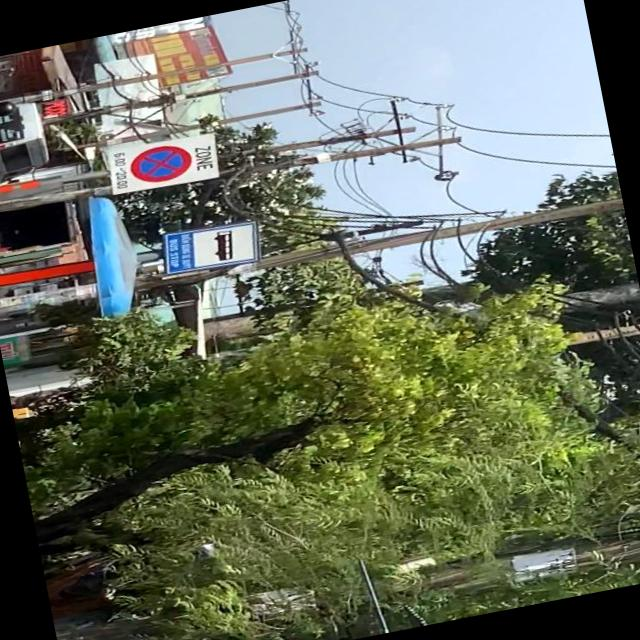P-130: (126, 143, 196, 188)
